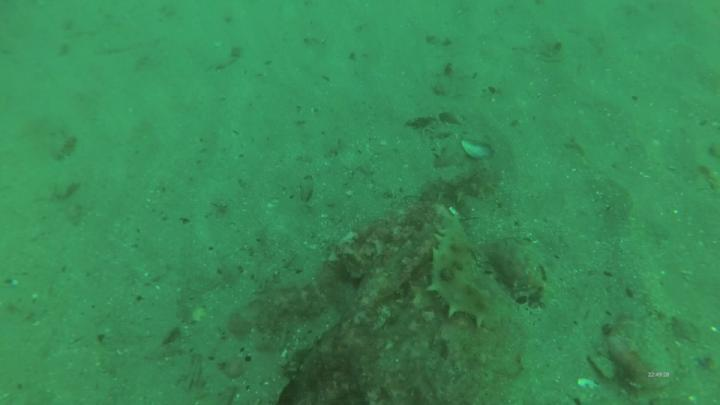holothurian: (427, 216, 516, 333), (489, 235, 549, 307), (420, 167, 497, 202)
